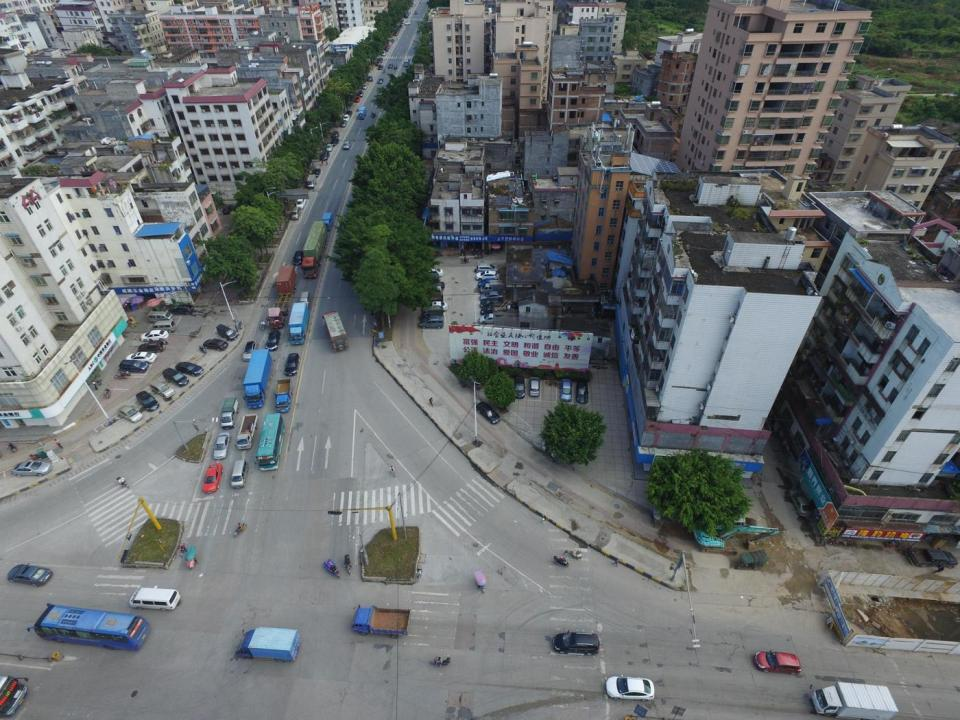bus: (27, 604, 151, 652), (257, 413, 284, 472), (403, 58, 410, 67)
car: (602, 677, 656, 701), (754, 649, 802, 676), (552, 631, 599, 654), (7, 564, 51, 587), (12, 460, 49, 479), (787, 490, 813, 517), (202, 462, 222, 494), (475, 401, 500, 424), (136, 389, 160, 411), (177, 360, 204, 376), (119, 358, 148, 372), (126, 350, 157, 363), (118, 406, 142, 422), (216, 431, 230, 458), (559, 378, 573, 404), (204, 337, 227, 352), (576, 378, 588, 406), (286, 352, 299, 376), (140, 331, 168, 342), (137, 342, 165, 353), (267, 330, 280, 352), (243, 339, 256, 361), (480, 295, 505, 306), (514, 376, 526, 398), (426, 298, 448, 310), (422, 278, 445, 289), (476, 263, 498, 274), (480, 312, 502, 323), (529, 376, 539, 398), (476, 271, 498, 280), (481, 305, 501, 314), (170, 305, 192, 313), (480, 292, 502, 300), (292, 250, 303, 266), (426, 287, 443, 297), (312, 168, 321, 178), (322, 152, 329, 161), (343, 142, 350, 150), (330, 138, 338, 145), (332, 131, 338, 139), (340, 120, 346, 128), (326, 143, 331, 151), (358, 90, 363, 98), (346, 110, 352, 116), (344, 114, 349, 121), (355, 97, 360, 102), (362, 84, 367, 89), (378, 78, 382, 84), (367, 77, 372, 81)
truck: (810, 683, 898, 720), (236, 626, 302, 662), (351, 606, 410, 638), (244, 350, 274, 411), (268, 265, 296, 329), (301, 220, 326, 279), (322, 308, 348, 350), (287, 301, 312, 344), (906, 547, 956, 567), (236, 413, 258, 450), (738, 548, 768, 570), (222, 396, 240, 428), (479, 279, 518, 293), (276, 380, 292, 412), (320, 212, 334, 230), (423, 294, 444, 305), (420, 310, 444, 319), (307, 174, 316, 189), (358, 106, 366, 119)
van: (129, 588, 180, 610), (230, 459, 248, 487), (162, 367, 188, 385), (150, 380, 174, 397), (216, 323, 236, 341), (148, 311, 172, 324), (419, 316, 443, 329), (152, 320, 176, 332), (424, 264, 444, 276), (300, 291, 312, 307), (422, 271, 441, 281), (297, 196, 306, 209), (292, 206, 300, 220), (222, 204, 231, 214)
